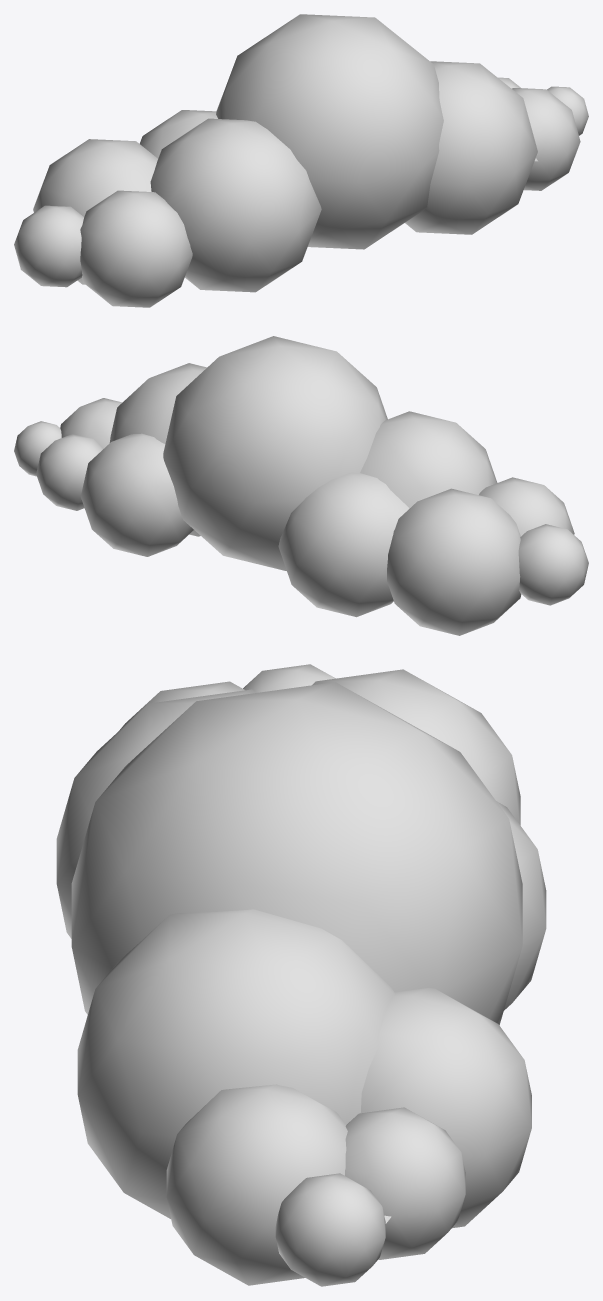
The model's file is cloud_2.fbx.
The picture shows the model from 3 angles, top to bottom: view 1: azimuth 30°, elevation 25°; view 2: azimuth 150°, elevation 25°; view 3: azimuth 270°, elevation 25°; orthographic projection. The views are drawn at different scales.
Visible parts, largest first — view 1: Cloud 2; view 2: Cloud 2; view 3: Cloud 2.
Part boxes in pixels (<box>): Cloud 2: <box>14,14,588,307</box>; Cloud 2: <box>14,336,588,635</box>; Cloud 2: <box>56,664,546,1286</box>.
Size of the model in its own units: 814 by 308 by 310.
